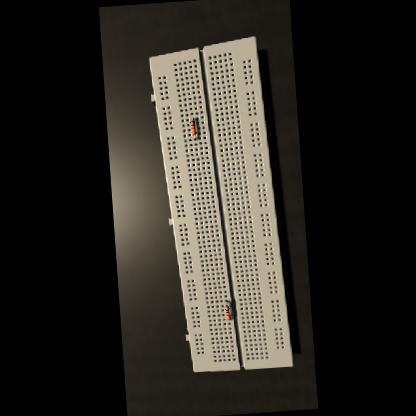breadboard: (146, 35, 294, 375)
resistor: (190, 121, 196, 136), (224, 306, 230, 320)
wire: (191, 118, 192, 120), (194, 136, 194, 140)
